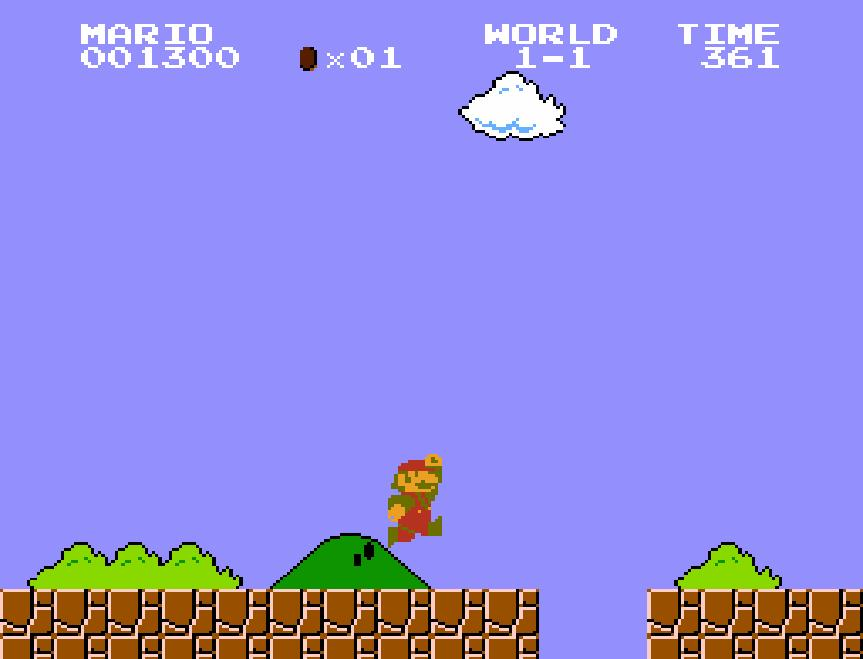big_mario: (386, 452, 444, 550)
